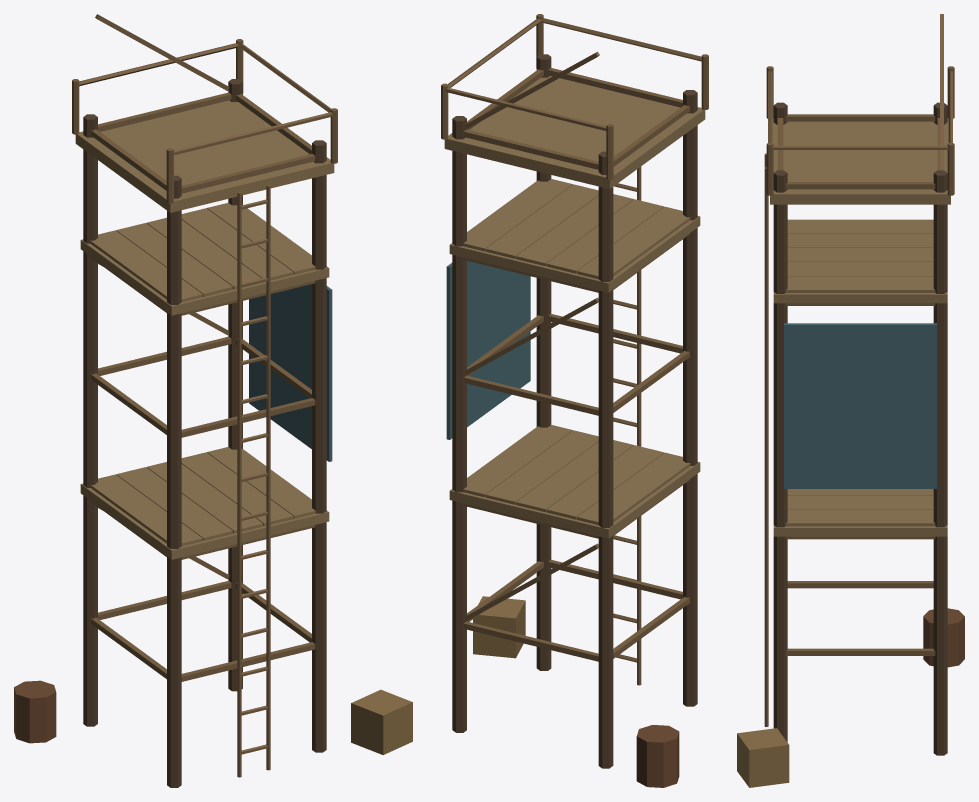
The model's file is V_Scaffold.glb.
3 views of the same model, side by side, from view 1: azimuth 30°, elevation 25°; view 2: azimuth 150°, elevation 25°; view 3: azimuth 270°, elevation 25° (orthographic). The views are drawn at different scales.
Parts seen in each view (by area): view 1: V_Scaffold_Fixtures, V_Scaffold_Structure, V_Scaffold_Props; view 2: V_Scaffold_Fixtures, V_Scaffold_Structure, V_Scaffold_Props; view 3: V_Scaffold_Fixtures, V_Scaffold_Props, V_Scaffold_Structure.
Part boxes in pixels (<box>): V_Scaffold_Fixtures: <box>72,39,337,777</box>; V_Scaffold_Structure: <box>83,14,326,787</box>; V_Scaffold_Props: <box>14,284,412,754</box>; V_Scaffold_Fixtures: <box>441,14,708,685</box>; V_Scaffold_Structure: <box>452,51,697,768</box>; V_Scaffold_Props: <box>446,261,679,787</box>; V_Scaffold_Fixtures: <box>764,66,954,726</box>; V_Scaffold_Props: <box>737,323,964,787</box>; V_Scaffold_Structure: <box>773,14,947,755</box>.
Bounding box in the file's own units: 4.68 × 10.71 × 3.28.
